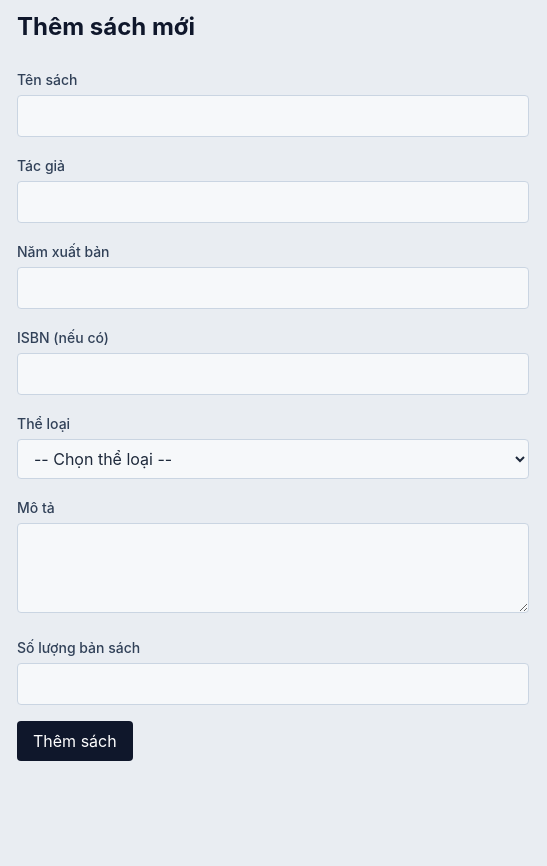
it: BookCreate › rejects bad Số lượng bản sách
Check: the field labelled "Tên sách" is shown, box [17,95,529,137]
Type "0" into the number field labelled "Số lượng bản sách" at (273, 684), box [17,663,529,705]
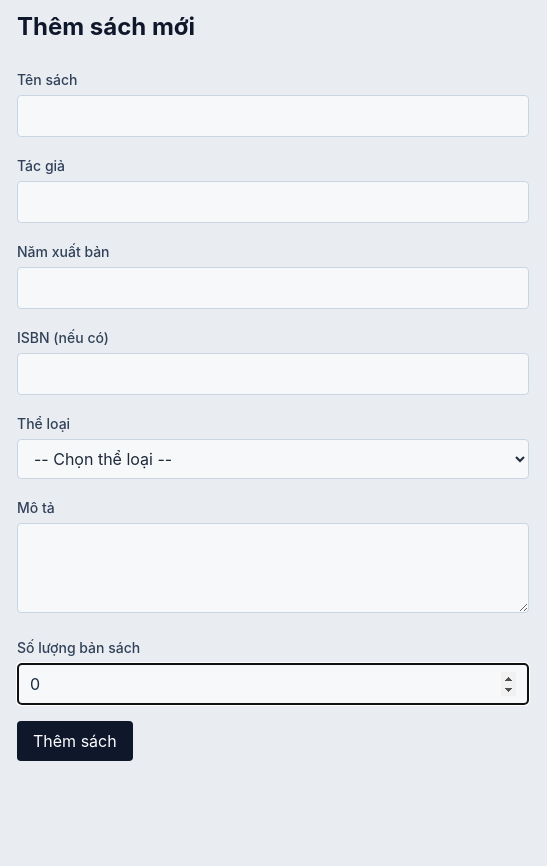
Click the button "Thêm sách" at (75, 741), box [17,721,133,761]
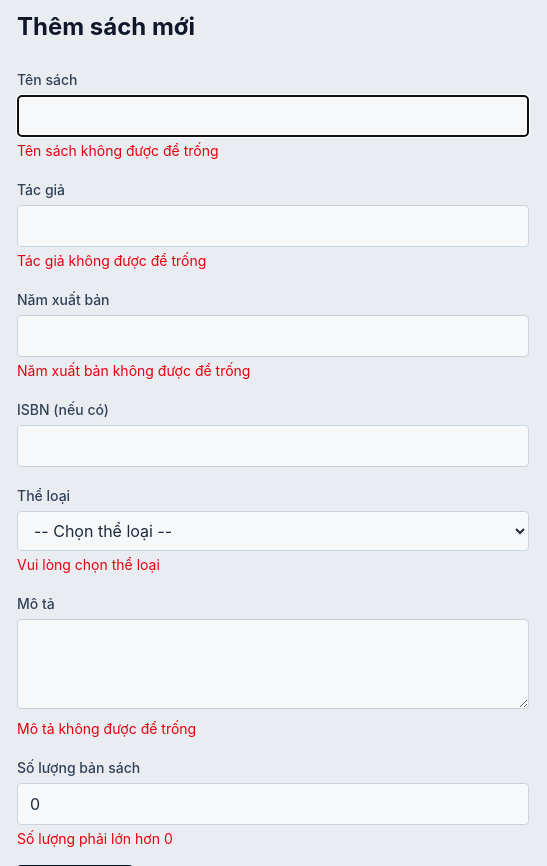
Check: the text "Số lượng phải lớn hơn 0" is shown, box [17,830,173,847]
